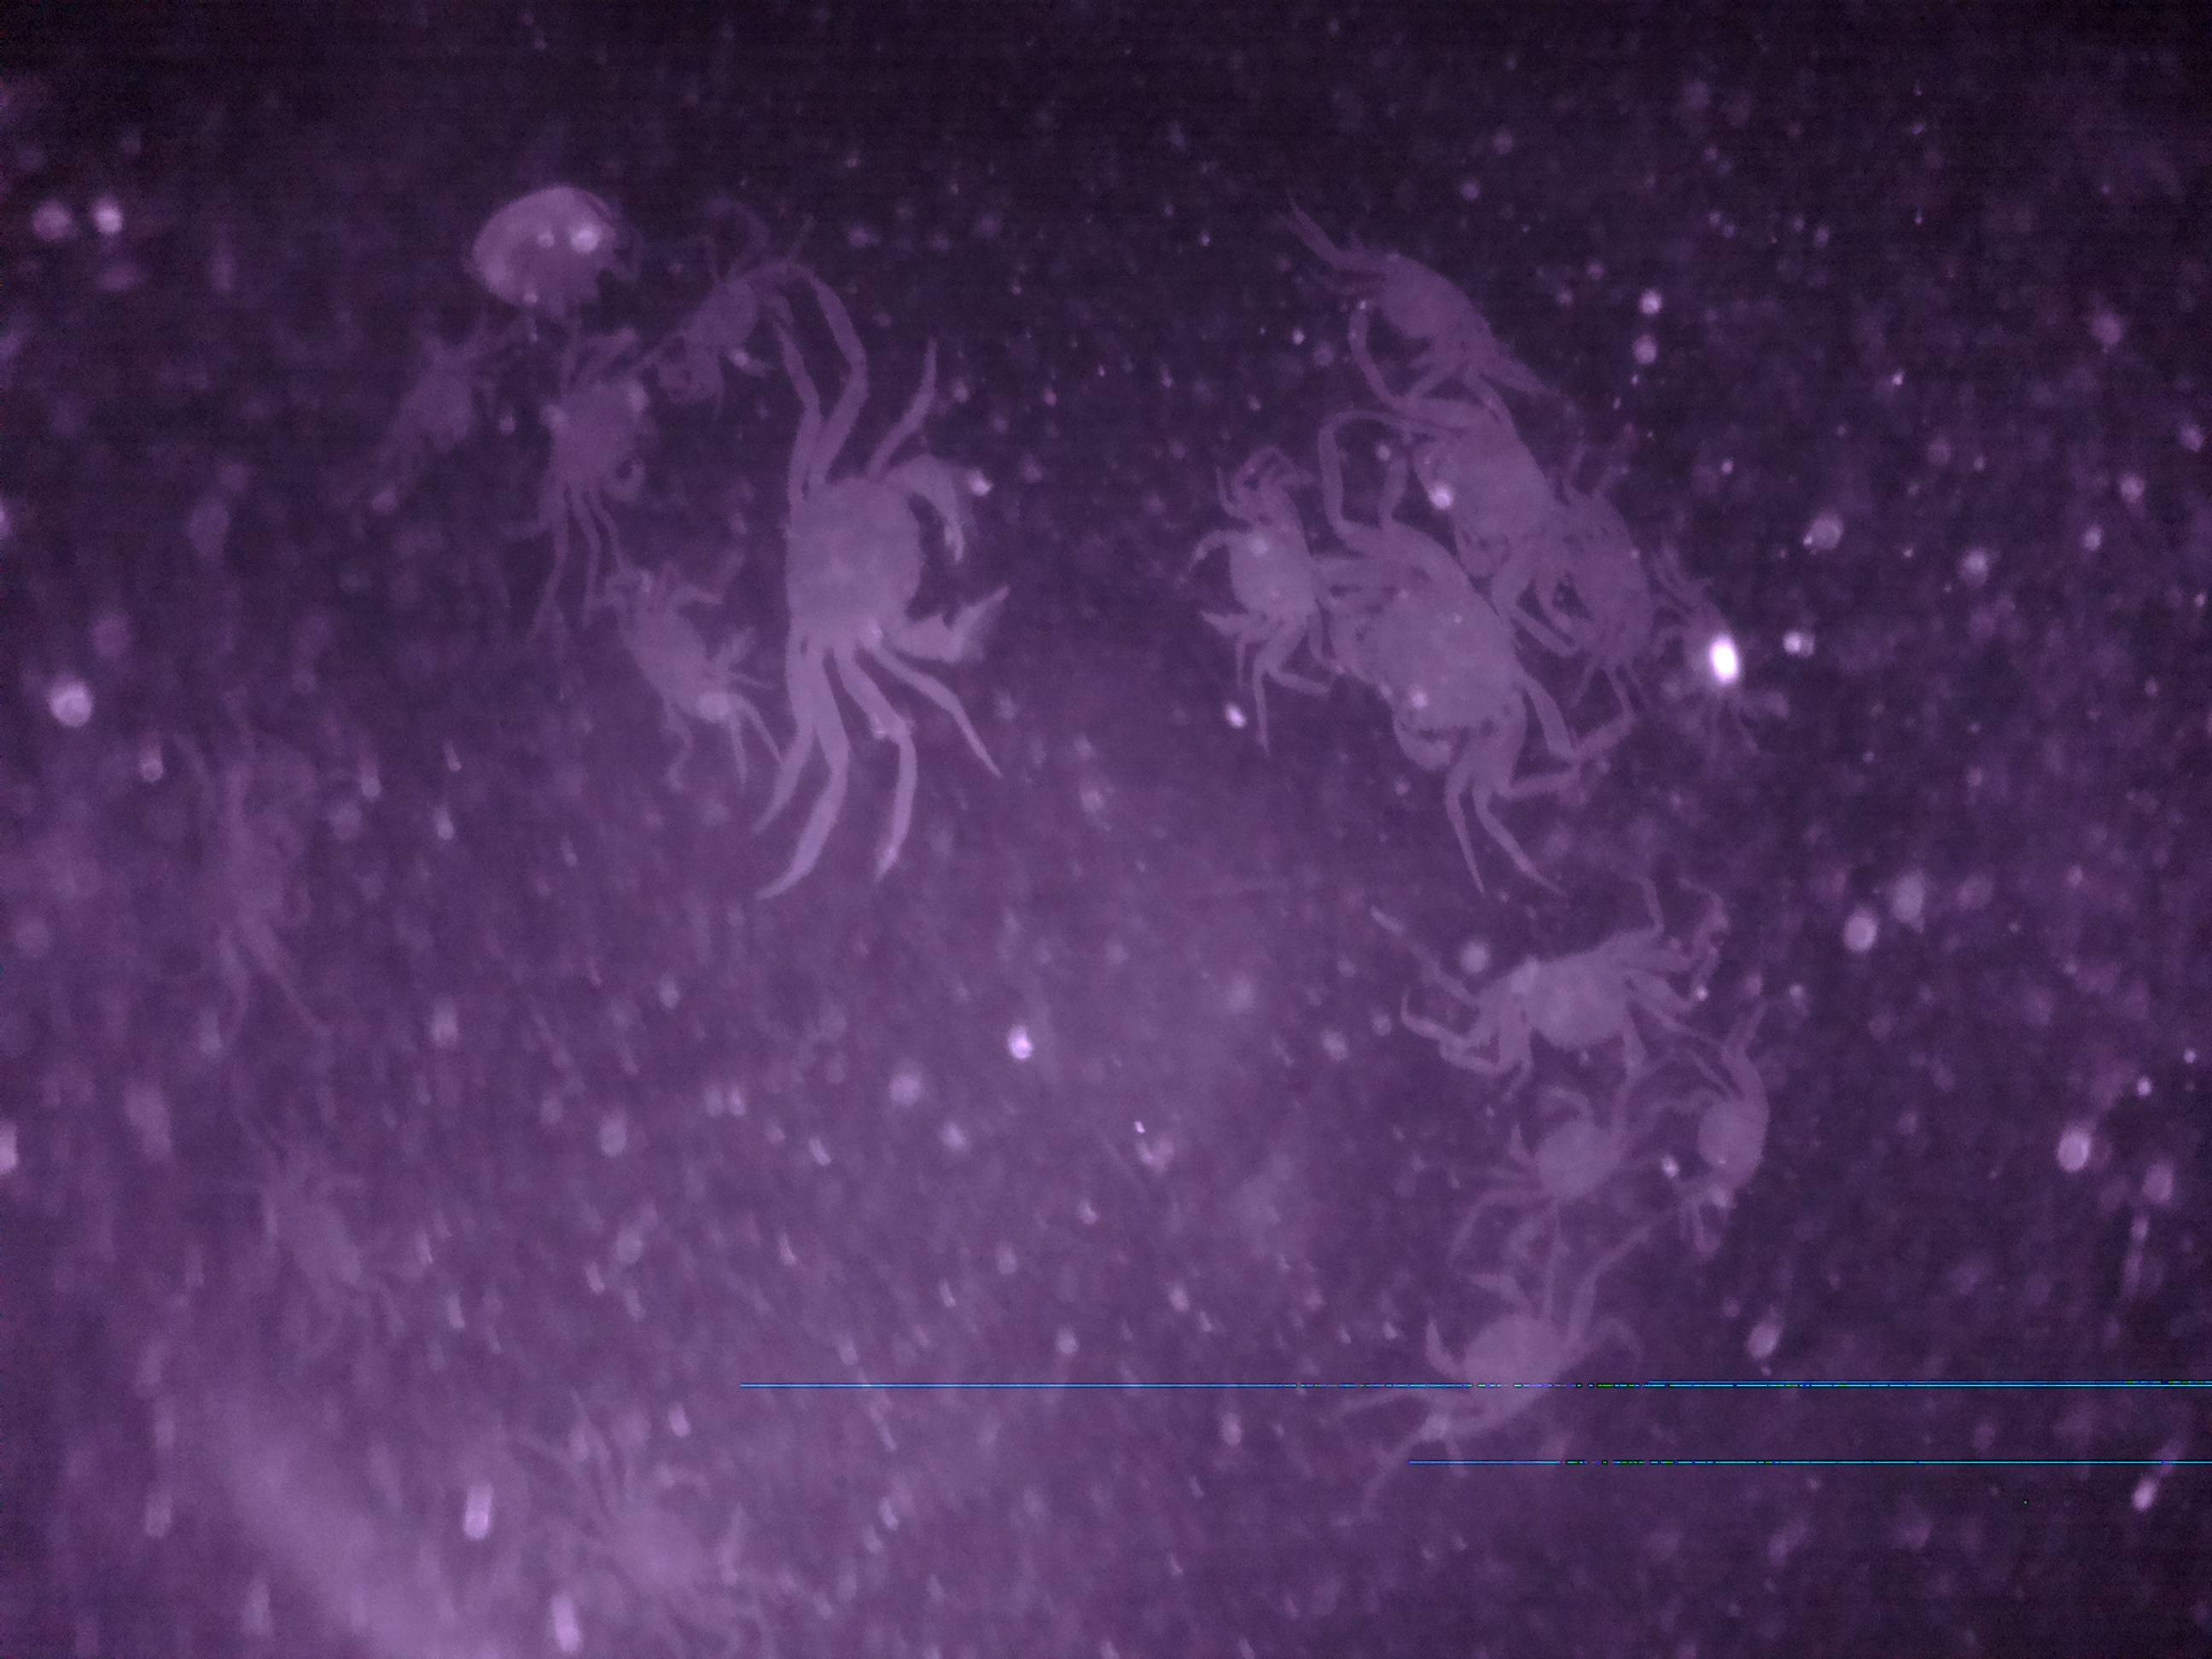Crab: (759, 427, 1012, 699), (1456, 922, 1676, 1084), (1190, 464, 1341, 669), (1343, 225, 1496, 378)
